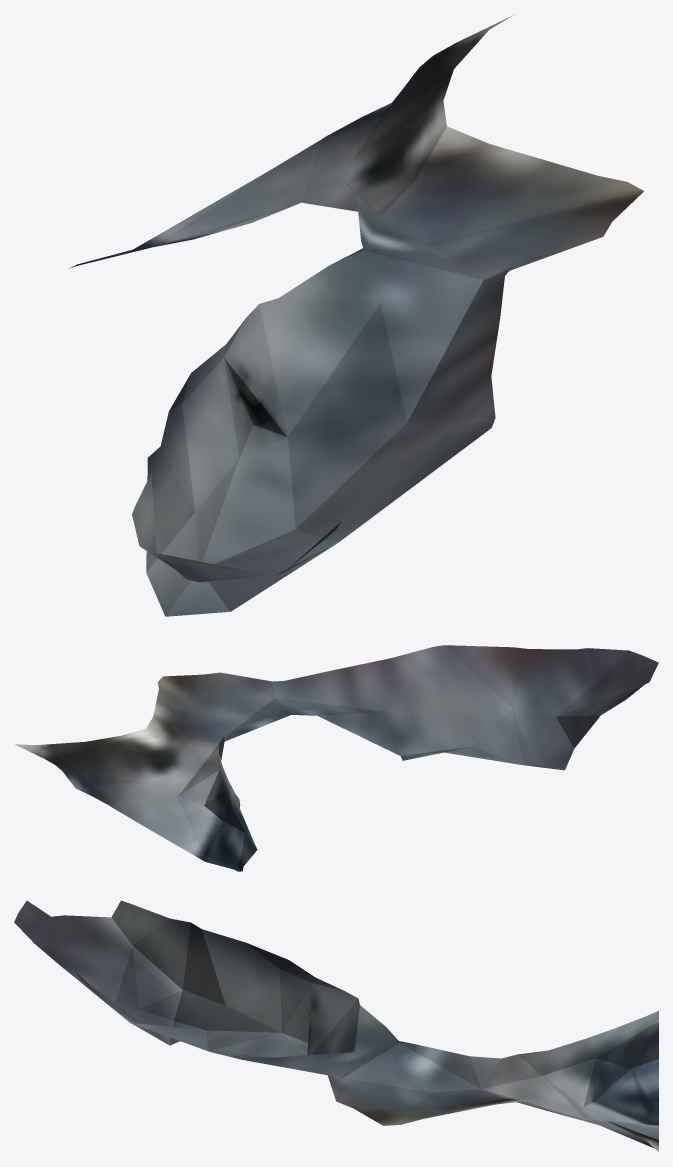
3 views of the same model, one above another, from view 1: azimuth 30°, elevation 25°; view 2: azimuth 150°, elevation 25°; view 3: azimuth 270°, elevation 25° (orthographic). The views are drawn at different scales.
Bounding box in the file's own units: 0.3359 × 0.0635 × 0.3632.
1 material, 1 textured.
